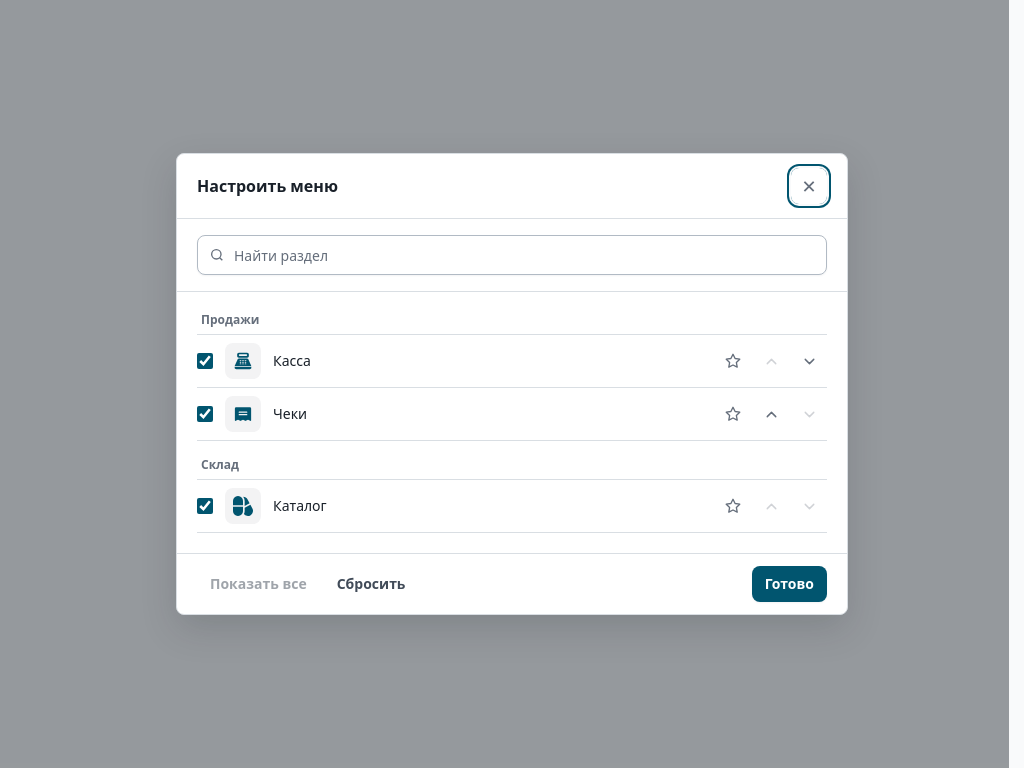
Scenario: SidebarSettingsModal › filters rows without enabling order controls on a partial list
This screenshot has width=1024, height=768.
Type "чек" into the field labelled "Найти раздел".
click(512, 255); type("чек")  # box [197,235,827,275]
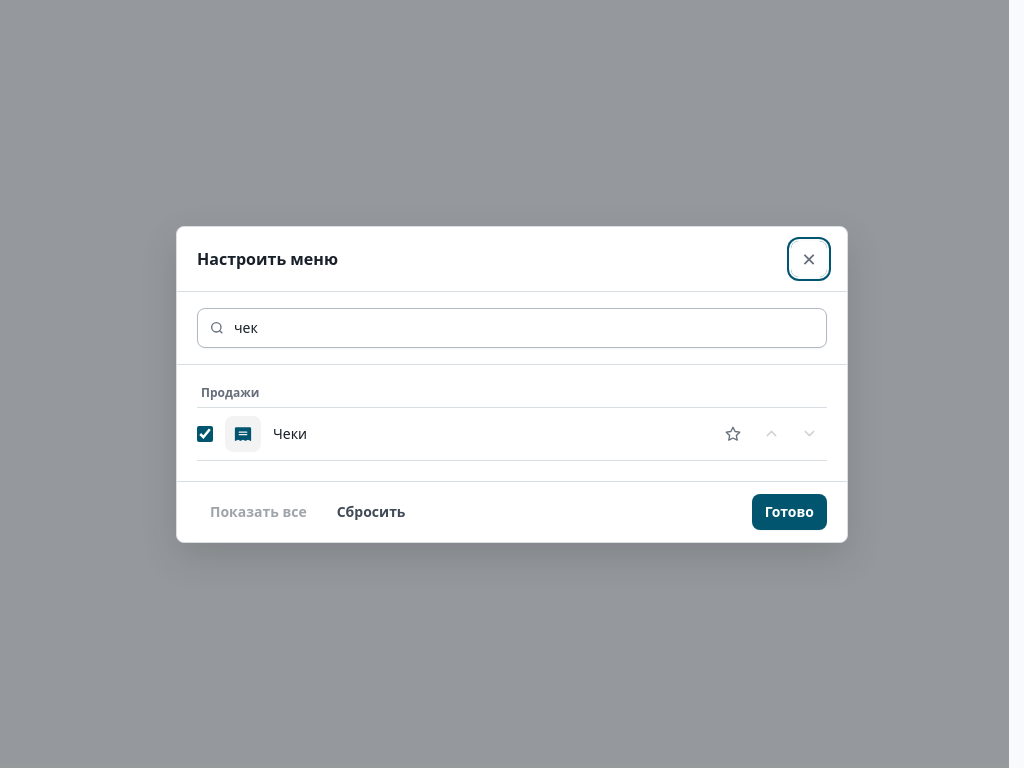
Expected: the text "Чеки" is shown, [273,424,307,442]
Expected: the text "Касса" is gone
Expected: the button named "Поднять раздел «Чеки»" is disabled, [753,416,789,452]
